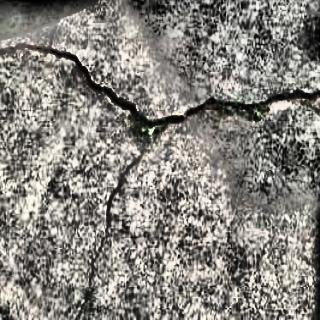crack: (2, 35, 316, 136), (78, 157, 137, 320)
